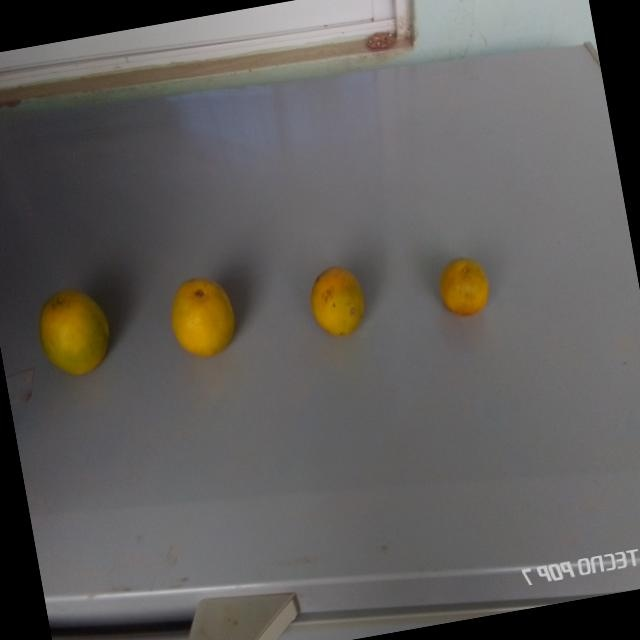agrume: (28, 274, 118, 389), (161, 261, 246, 371), (299, 257, 373, 347), (435, 242, 497, 326)
